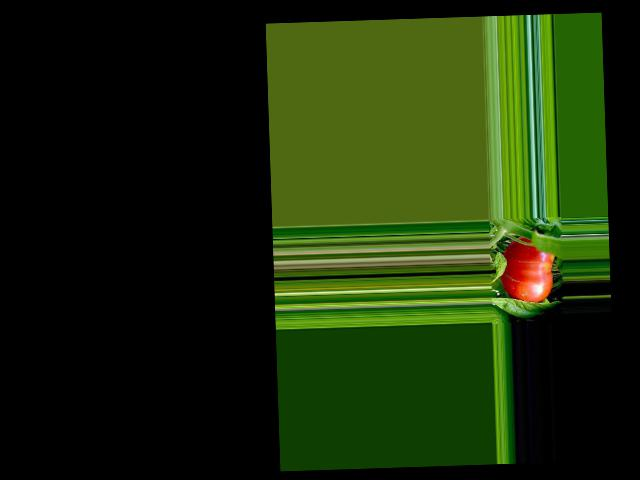tomato: (499, 235, 556, 304)
